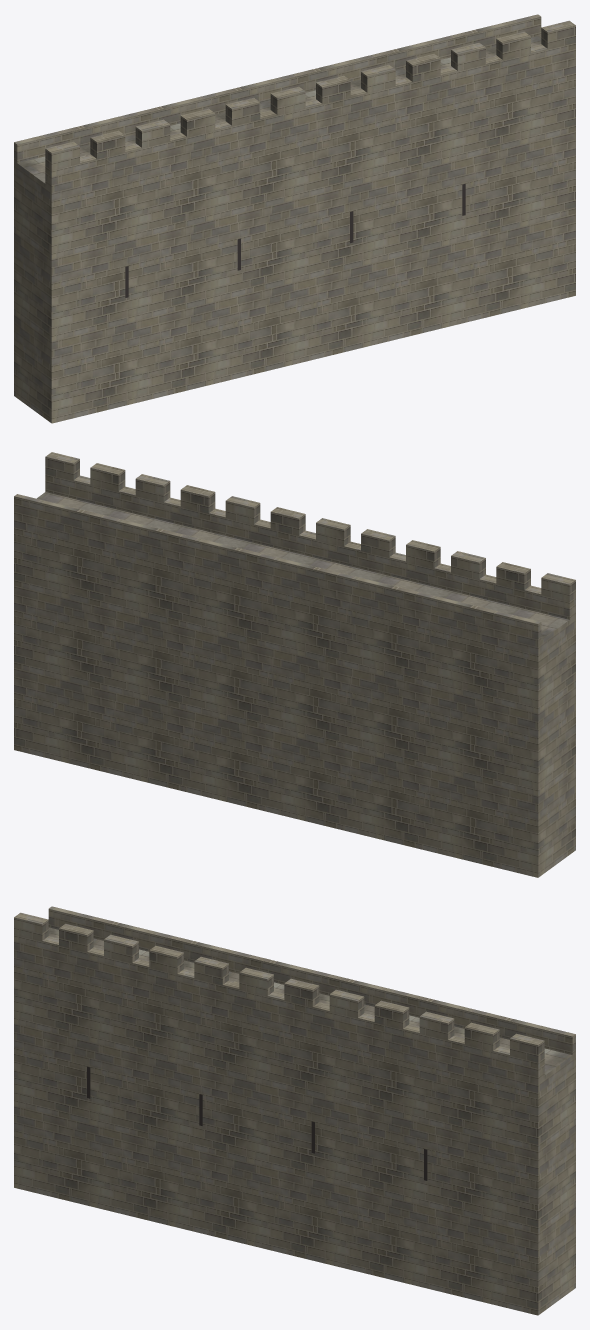
The model's file is fort-wall-28.reveal-v1.lod1.glb.
The picture shows the model from 3 angles, top to bottom: view 1: azimuth 30°, elevation 25°; view 2: azimuth 150°, elevation 25°; view 3: azimuth 330°, elevation 25°; orthographic projection.
Parts seen in each view (by area): view 1: fort-wall-28; view 2: fort-wall-28; view 3: fort-wall-28.
Boxes of the visible parts, left/top/right/bottom form: fort-wall-28: left=14, top=14, right=575, bottom=423; fort-wall-28: left=14, top=452, right=575, bottom=877; fort-wall-28: left=14, top=906, right=575, bottom=1315.
Bounding box in the file's own units: 28 × 13.8 × 3.52.
3 materials, 2 textured.
